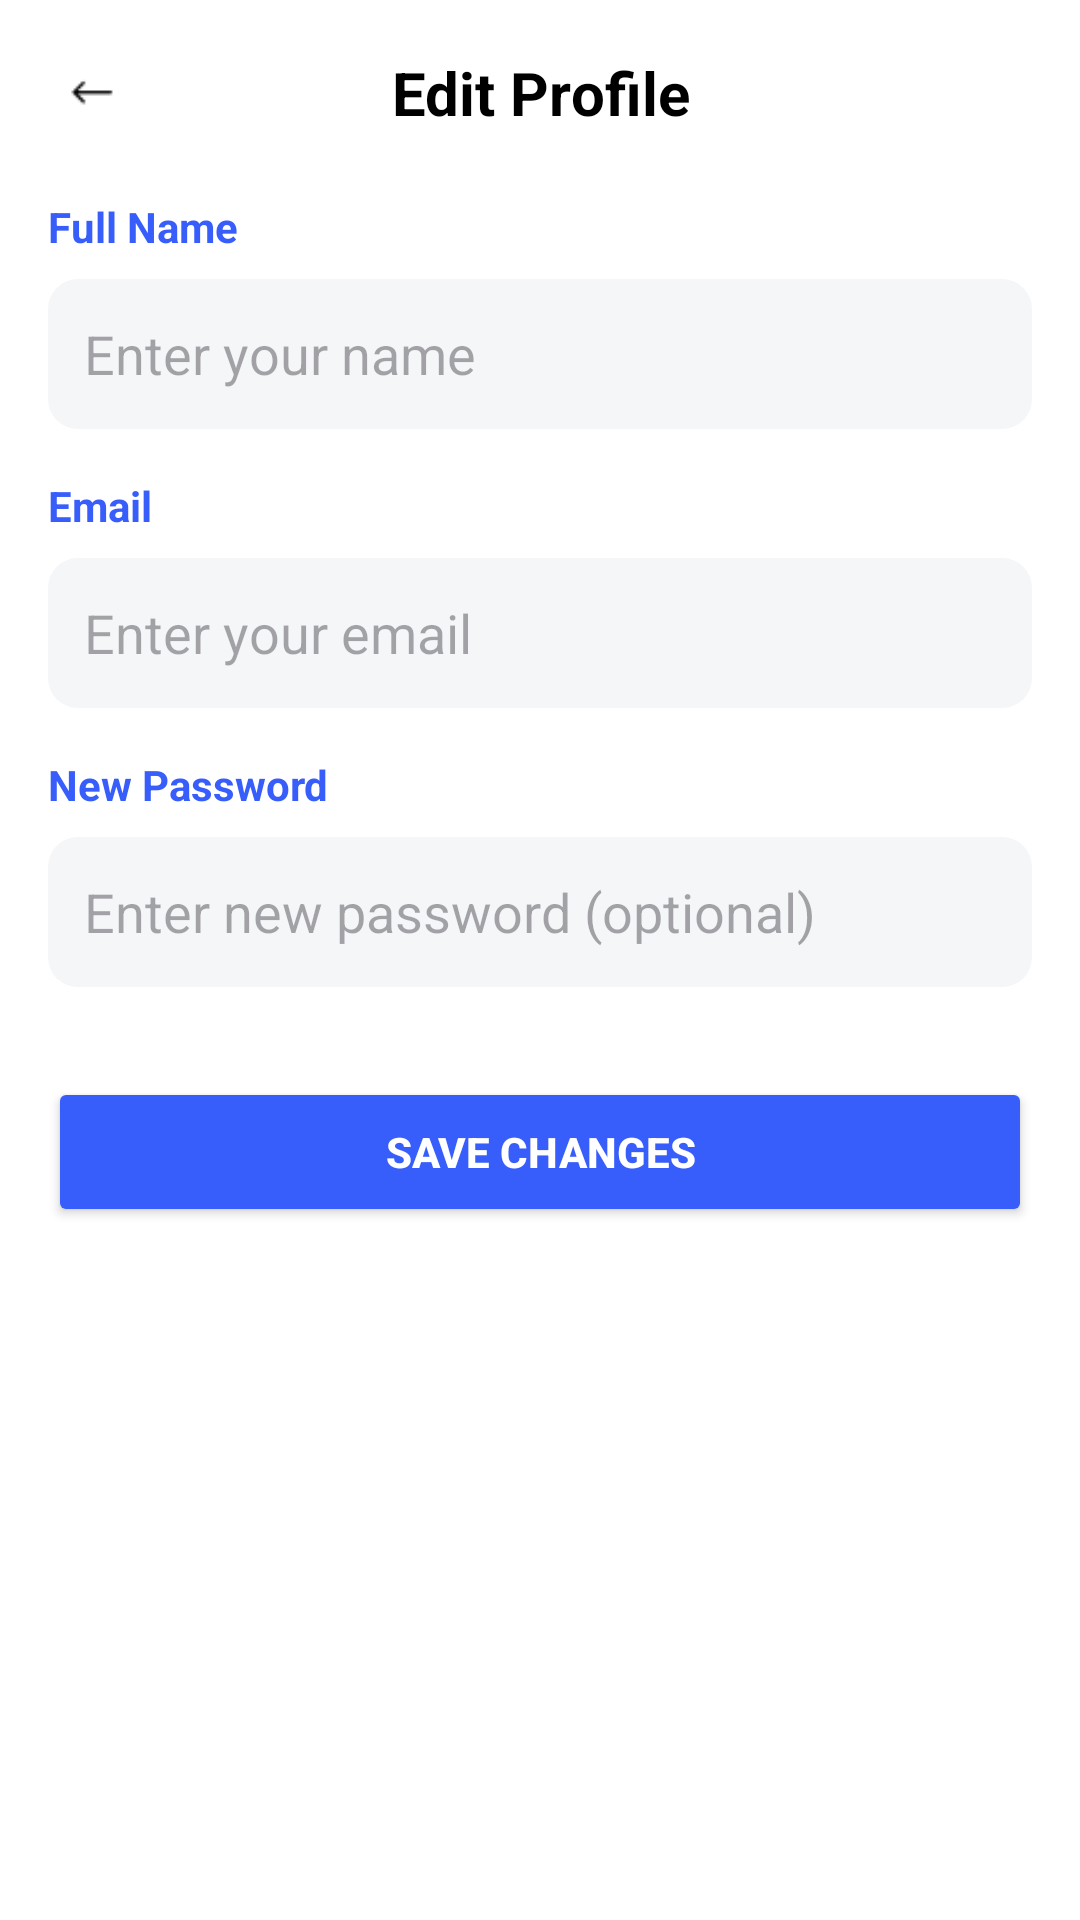

Icon click points for this 1080 x 1920 phone screenshot, format [x,y]:
back arrow: [92,93]
